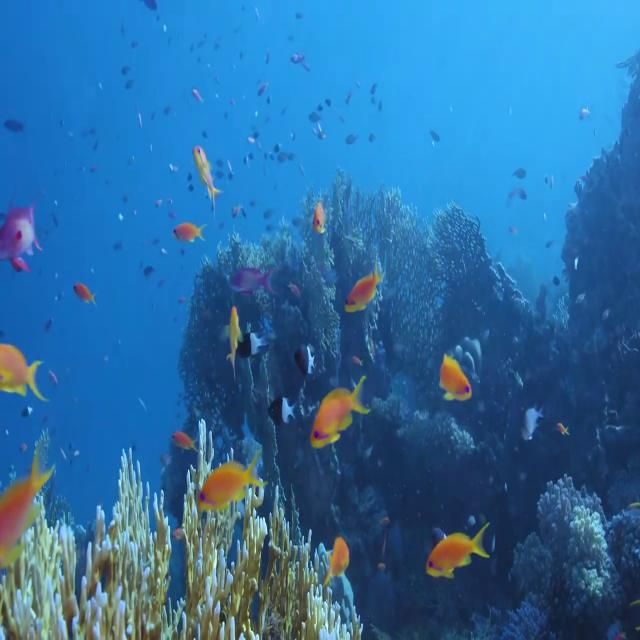fish: (0, 426, 66, 574), (305, 378, 379, 453), (422, 508, 492, 584), (192, 443, 266, 509), (0, 320, 46, 410), (0, 192, 45, 282), (188, 136, 224, 232), (339, 261, 385, 327), (435, 348, 477, 416), (228, 249, 278, 299), (222, 301, 246, 381), (172, 208, 210, 252), (516, 394, 544, 446), (294, 336, 322, 384), (234, 322, 268, 358), (68, 276, 100, 312), (312, 196, 330, 248), (171, 414, 191, 454)
